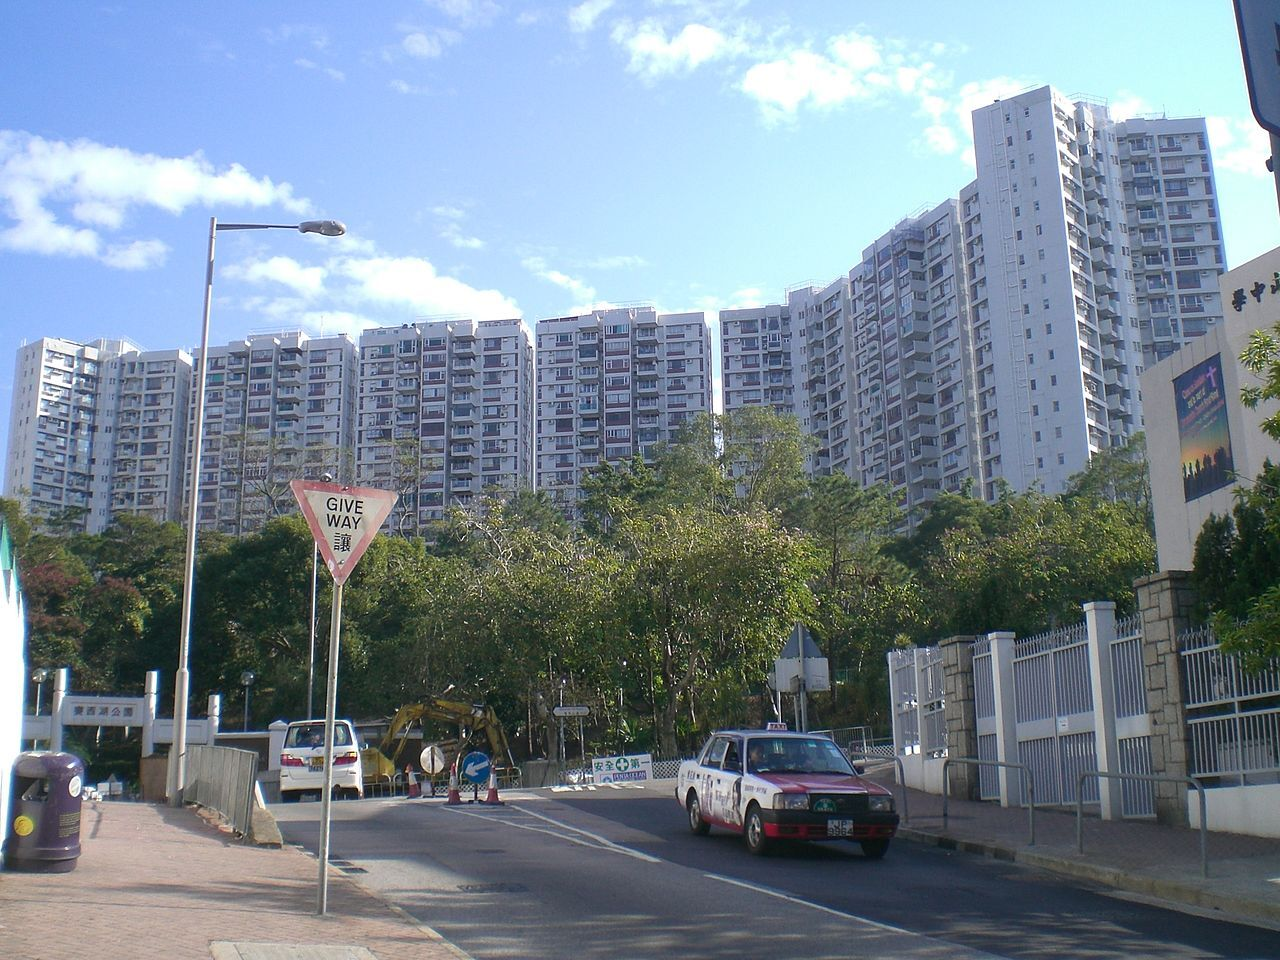Give Way: (282, 478, 407, 578)
